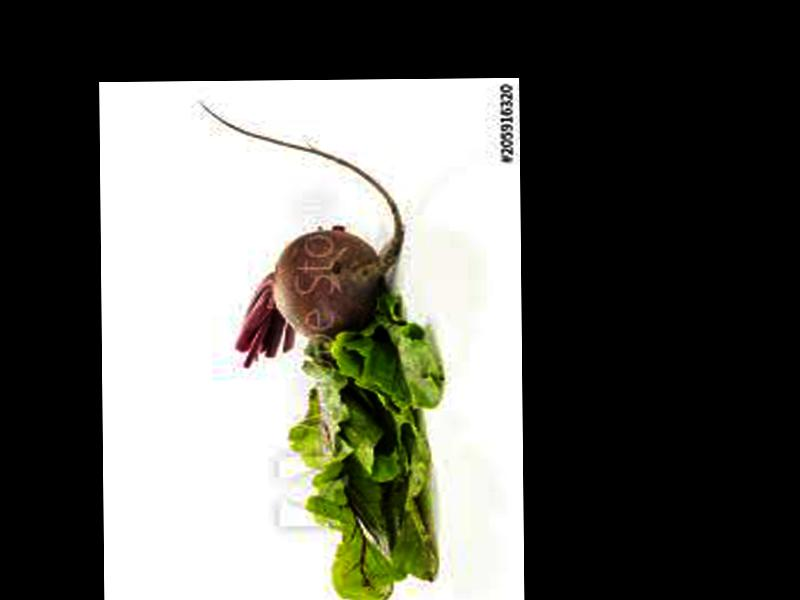Beet: (198, 97, 405, 371)
